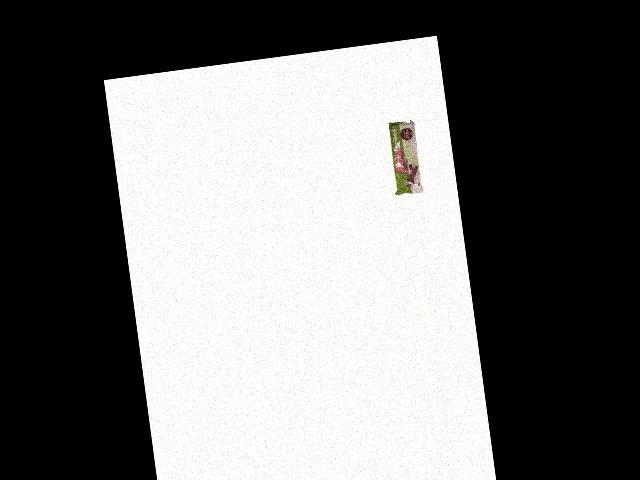chocolate: (386, 116, 426, 196)
